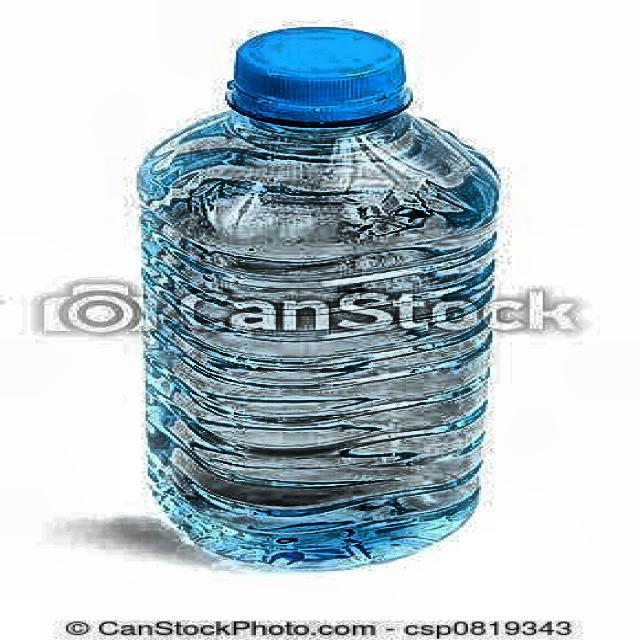Bottles: (113, 20, 544, 575)
